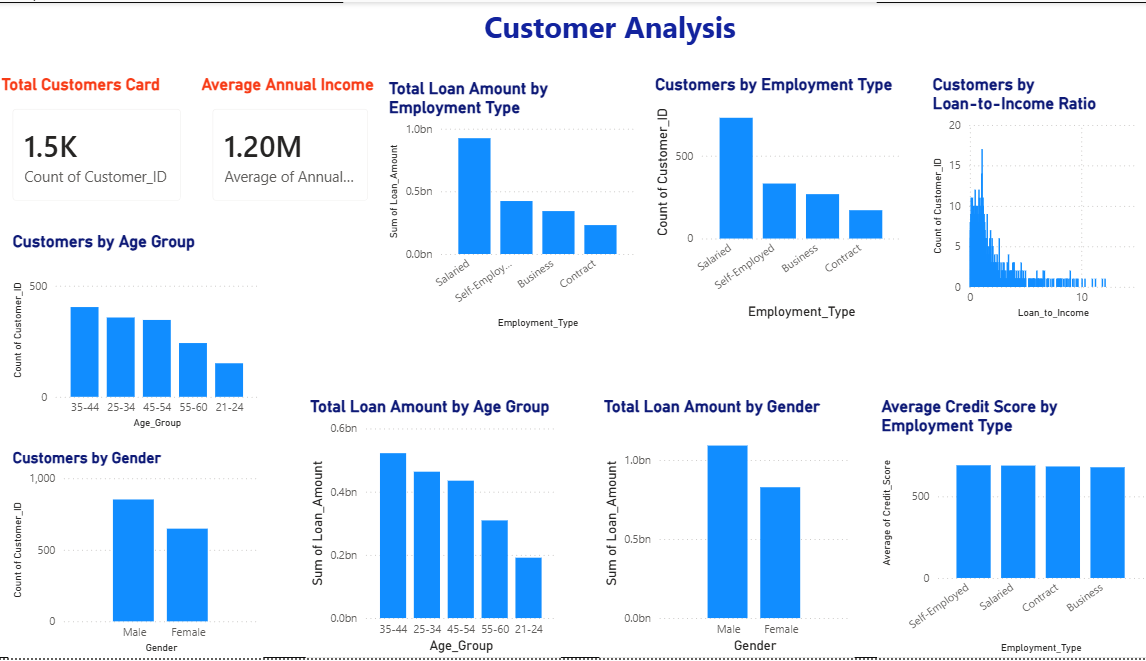

The page's visual inventory and layout, read from the dashboard file:
{"tool":"powerbi","page":{"name":"Customer Analysis","canvas":[1280,720],"ordinal":2},"visuals":[{"type":"cardVisual","title":"Total Customers Card","fields":{"Data":["Count(banking_loan_analytics loan_data.Customer_ID)"]},"box":[0,56.7,220,196.7],"z":0},{"type":"cardVisual","title":"Average Annual Income","fields":{"Data":["Avg(banking_loan_analytics loan_data.Annual_Income)"]},"box":[206.7,56.7,206.7,196.7],"z":1000},{"type":"clusteredColumnChart","title":"Total Loan Amount by Employment Type","fields":{"Category":["banking_loan_analytics loan_data.Employment_Type"],"Y":["Sum(banking_loan_analytics loan_data.Loan_Amount)"]},"box":[413.3,56.7,280,280],"z":2000},{"type":"clusteredColumnChart","title":"Customers by Employment Type","fields":{"Category":["banking_loan_analytics loan_data.Employment_Type"],"Y":["Count(banking_loan_analytics loan_data.Customer_ID)"]},"box":[715,56.7,280,273.3],"z":3000},{"type":"clusteredColumnChart","title":"Customers by Age Group","fields":{"Category":["banking_loan_analytics loan_data.Age_Group"],"Y":["Count(banking_loan_analytics loan_data.Customer_ID)"]},"box":[11.7,253.3,280,221.7],"z":4000},{"type":"clusteredColumnChart","title":"Customers by Gender","fields":{"Category":["banking_loan_analytics loan_data.Gender"],"Y":["Count(banking_loan_analytics loan_data.Customer_ID)"]},"box":[11.7,490,280,230],"z":5000},{"type":"clusteredColumnChart","title":"Total Loan Amount by Age Group","fields":{"Category":["banking_loan_analytics loan_data.Age_Group"],"Y":["Sum(banking_loan_analytics loan_data.Loan_Amount)"]},"box":[338.3,433.3,280,286.7],"z":6000},{"type":"clusteredColumnChart","title":"Total Loan Amount by Gender","fields":{"Category":["banking_loan_analytics loan_data.Gender"],"Y":["Sum(banking_loan_analytics loan_data.Loan_Amount)"]},"box":[661.7,433.3,280,286.7],"z":7000},{"type":"clusteredColumnChart","title":"Customers by Loan-to-Income Ratio","fields":{"Category":["banking_loan_analytics loan_data.Loan_to_Income"],"Y":["Count(banking_loan_analytics loan_data.Customer_ID)"]},"box":[1023.3,56.7,241.7,273.3],"z":8000},{"type":"clusteredColumnChart","title":"Average Credit Score by Employment Type","fields":{"Category":["banking_loan_analytics loan_data.Employment_Type"],"Y":["Avg(banking_loan_analytics loan_data.Credit_Score)"]},"box":[966.7,433.3,298.3,286.7],"z":9000}]}

Visuals, with their boxes in screenshot pixels (x1, y1, x2, y2), scaled from the page's 1280x720 canvas onto the 1146x661 screenshot:
"Total Customers Card" cardVisual: 0/52/197/233
"Average Annual Income" cardVisual: 185/52/370/233
"Total Loan Amount by Employment Type" clusteredColumnChart: 370/52/621/309
"Customers by Employment Type" clusteredColumnChart: 640/52/891/303
"Customers by Age Group" clusteredColumnChart: 10/233/261/436
"Customers by Gender" clusteredColumnChart: 10/450/261/660
"Total Loan Amount by Age Group" clusteredColumnChart: 303/398/554/660
"Total Loan Amount by Gender" clusteredColumnChart: 592/398/843/660
"Customers by Loan-to-Income Ratio" clusteredColumnChart: 916/52/1133/303
"Average Credit Score by Employment Type" clusteredColumnChart: 865/398/1133/660
